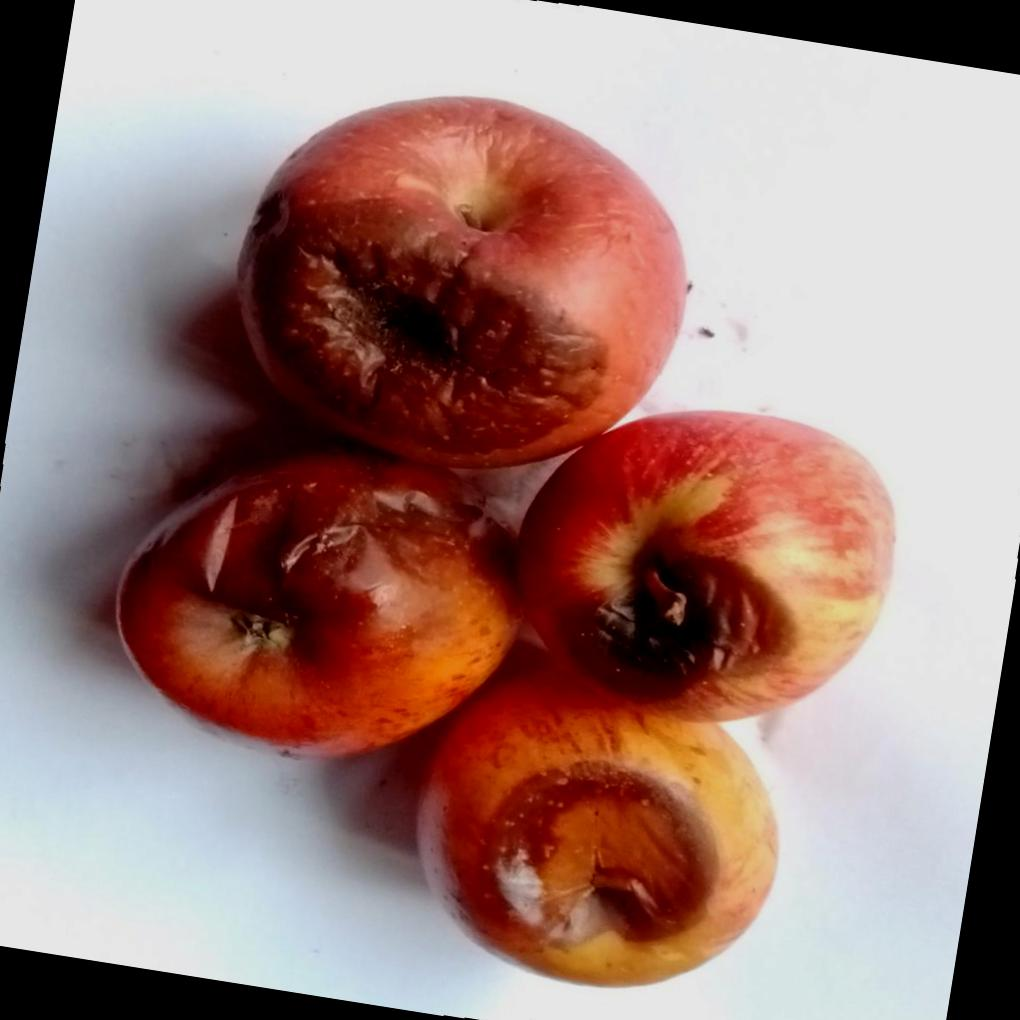FreshOrange: (112, 97, 898, 990)
